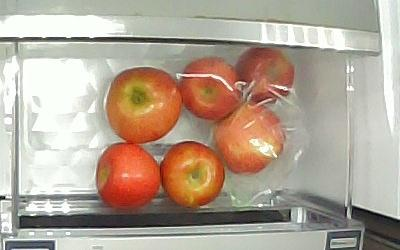apple: (103, 66, 181, 143), (94, 142, 161, 211), (161, 142, 225, 210)
apple_vinyl: (214, 103, 288, 175), (181, 58, 243, 118), (238, 47, 296, 106)
